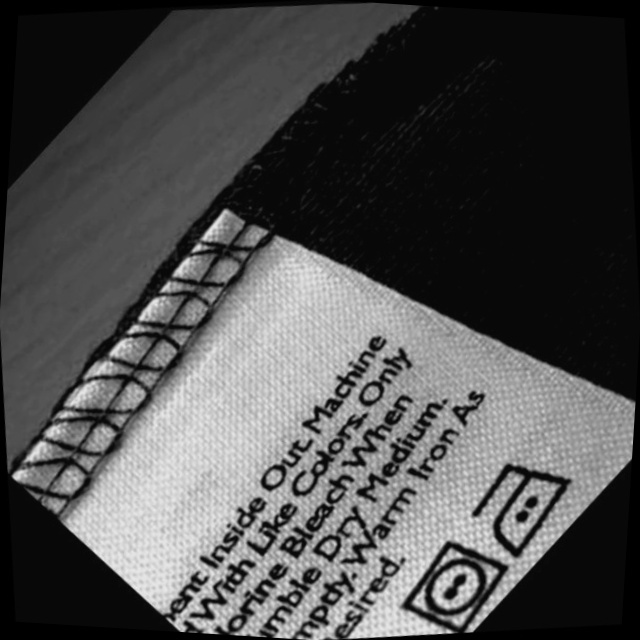iron_medium: (465, 452, 587, 564)
tumble_dry_medium: (395, 532, 520, 640)
